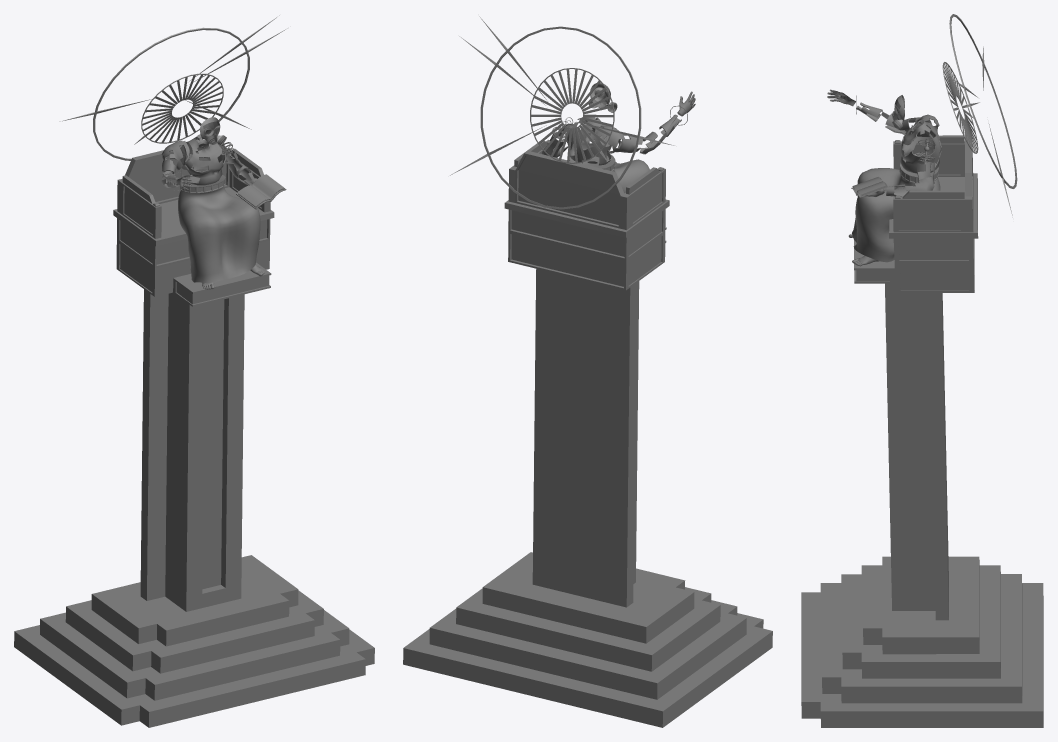
File: landmark 1.fbx
The picture shows the model from 3 angles, left to right: view 1: azimuth 30°, elevation 25°; view 2: azimuth 150°, elevation 25°; view 3: azimuth 270°, elevation 25°; orthographic projection. The views are drawn at different scales.
Visible parts, largest first — view 1: Object003; view 2: Object003; view 3: Object003.
Boxes of the visible parts, x1,y1,x2,y2 form: Object003: (14, 15, 374, 727); Object003: (403, 16, 772, 727); Object003: (801, 14, 1043, 727).
Bounding box in the file's own units: 13.28 × 30.96 × 10.59.
